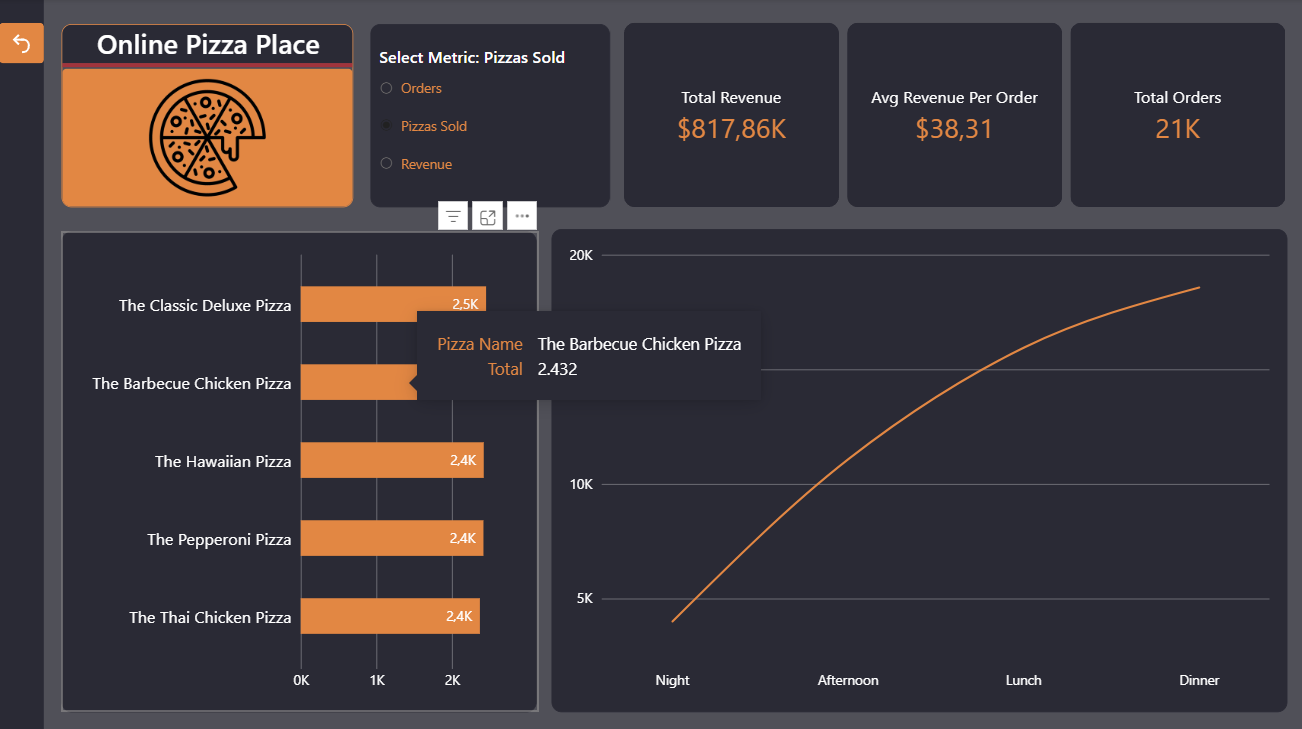

What the dashboard file says about the page in this screenshot:
{"tool":"powerbi","page":{"name":"Exec Dashboard","canvas":[1280,720],"ordinal":0},"visuals":[{"type":"slicer","fields":{"Values":["_Metric Selection.Select Metric"]},"box":[365,25,235,180],"z":0},{"type":"lineChart","fields":{"Category":["orders.date.Variation.Date Hierarchy.Month","orders.date.Variation.Date Hierarchy.Day","orders.Time Slot"],"Y":["_Measures.Total Revenue"]},"box":[542,226,722,474],"z":1000},{"type":"clusteredBarChart","fields":{"Category":["pizza_types.name"],"Y":["_Measures.Total Revenue"]},"box":[61.7,228.3,466.7,471.7],"z":2000},{"type":"cardVisual","fields":{"Data":["_Measures.Total Revenue","_Measures.Avg Revenue Per Order","_Measures.Total Orders"]},"box":[613.3,23.3,650,181.7],"z":3000},{"type":"shape","box":[0,0,44,720],"z":4000},{"type":"actionButton","box":[0,22.9,44.3,40],"z":5000},{"type":"image","title":"Online Pizza Place","box":[61.7,25,286.7,180],"z":6000}]}

Visuals, with their boxes in screenshot pixels (x1, y1, x2, y2), scaled from the page's 1280x720 canvas onto the 1302x729 screenshot:
slicer - _Metric Selection.Select Metric: select_region(371, 25, 610, 208)
lineChart - orders.date.Variation.Date Hierarchy.Month x orders.date.Variation.Date Hierarchy.Day: select_region(551, 229, 1286, 709)
clusteredBarChart - pizza_types.name x _Measures.Total Revenue: select_region(63, 231, 537, 709)
cardVisual - _Measures.Total Revenue x _Measures.Avg Revenue Per Order: select_region(624, 24, 1285, 208)
shape: select_region(0, 0, 45, 728)
actionButton: select_region(0, 23, 45, 64)
"Online Pizza Place" image: select_region(63, 25, 354, 208)
